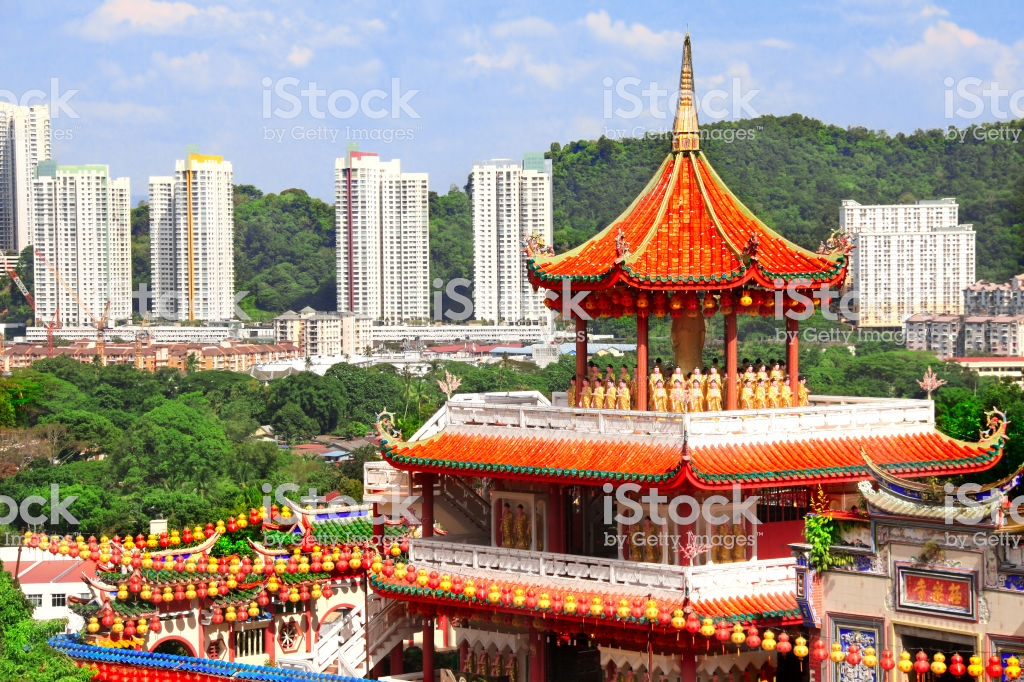Buddhist Temple: (421, 33, 1008, 652)
